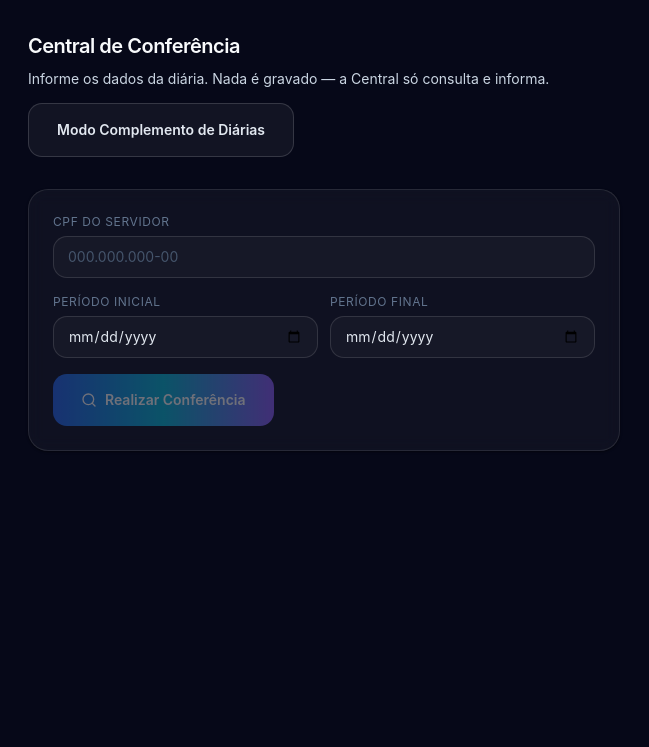
Scenario: Conferencia — prosseguir mesmo assim antes da liberação do DH (2026-08-06) › oferece 'Voltar'/'Prosseguir mesmo assim' quando a única pendência é a janela, sem revelar a Etapa 2 direto
Step 1. Type "12345678901" into the field labelled "CPF do servidor" → (324, 257), box x1=53 y1=236 x2=595 y2=278
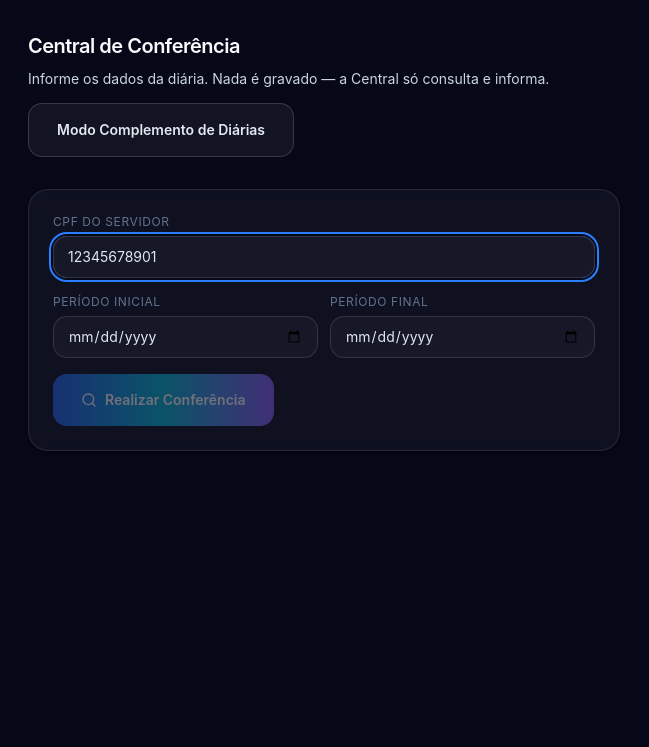
Step 2. Type "2026-07-21" into the date field labelled "Período inicial" → (186, 337), box x1=53 y1=316 x2=318 y2=358
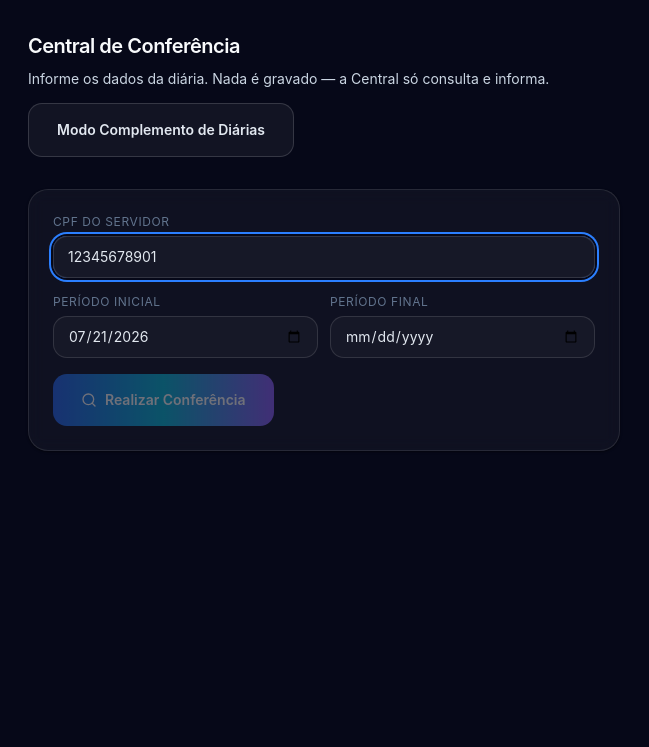
Step 3. Type "2026-07-23" into the date field labelled "Período final" → (462, 337), box x1=330 y1=316 x2=595 y2=358
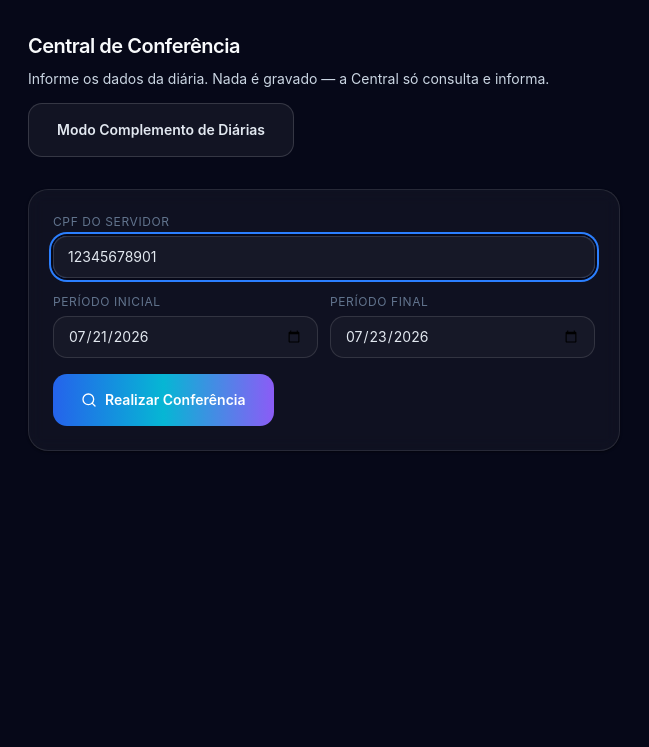
Step 4. Click the button "Realizar Conferência" → (163, 400), box x1=53 y1=374 x2=274 y2=426
(page scrolled)
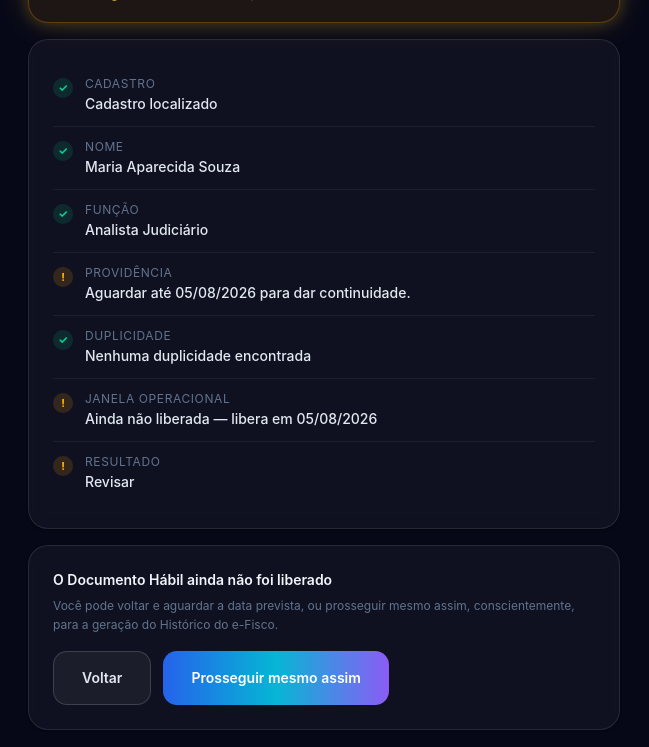
Check: the heading "O Documento Hábil ainda não foi liberado" is shown, box x1=53 y1=571 x2=332 y2=588
Check: the button "Voltar" is shown, box x1=53 y1=651 x2=151 y2=705
Check: the button "Prosseguir mesmo assim" is shown, box x1=163 y1=651 x2=389 y2=705
